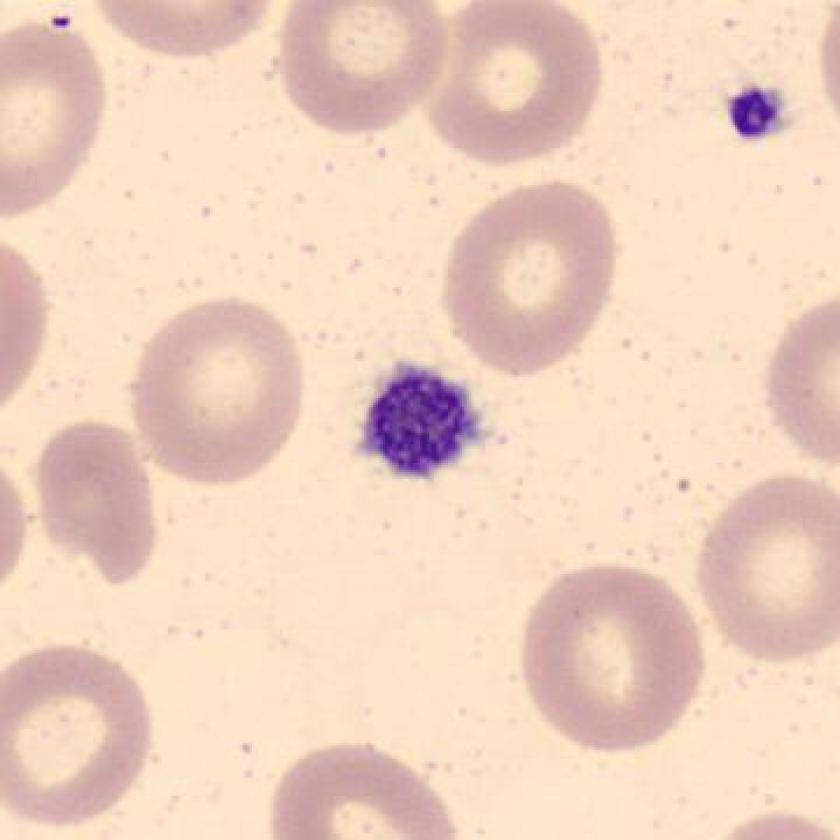platelets: (349, 351, 491, 492), (717, 71, 797, 161)
